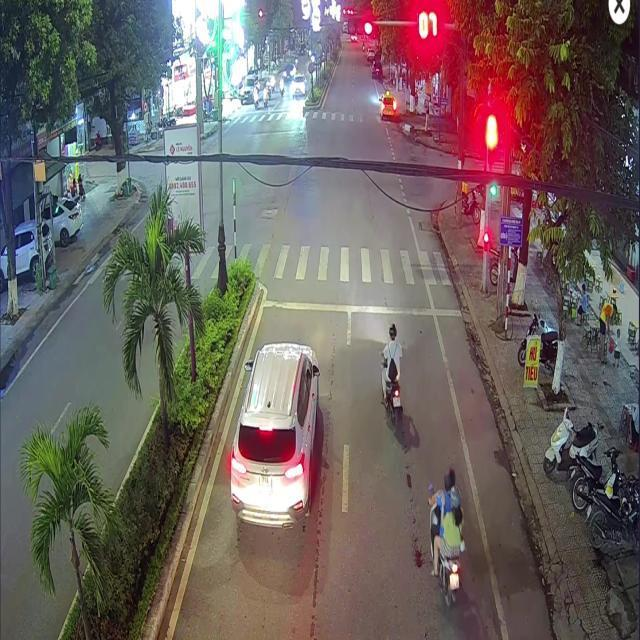car: (229, 342, 318, 527), (378, 89, 396, 116)
motobike: (427, 479, 459, 605), (380, 367, 402, 423)
red_light: (346, 15, 373, 36), (486, 132, 495, 168), (483, 233, 487, 251)
stop_line: (263, 299, 460, 315)
